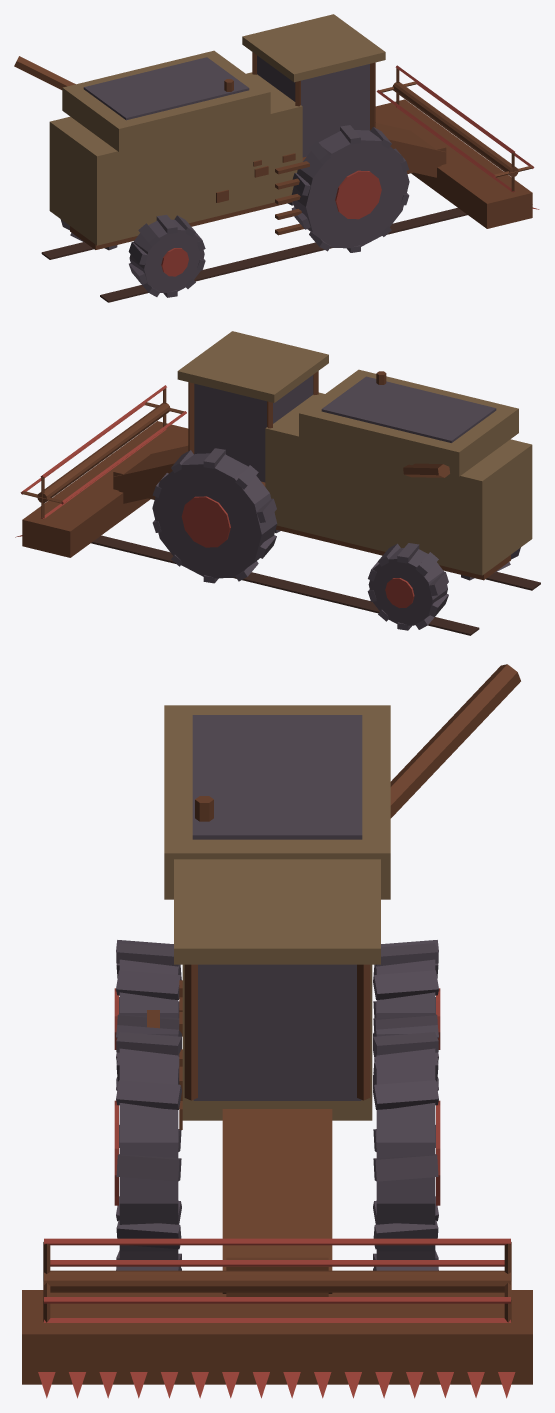
Rendered from prop.farm-combine.glb.
3 renders of one model, top to bottom at view 1: azimuth 30°, elevation 25°; view 2: azimuth 150°, elevation 25°; view 3: azimuth 270°, elevation 25°, orthographic. The views are drawn at different scales.
Visible parts, largest first — view 1: body; view 2: body; view 3: body.
Part boxes in pixels (x1,y1,x2,y2): body: (14,14,539,302); body: (15,331,540,635); body: (22,664,532,1398).
Bounding box in the file's own units: 6.53 × 2.78 × 3.5.
